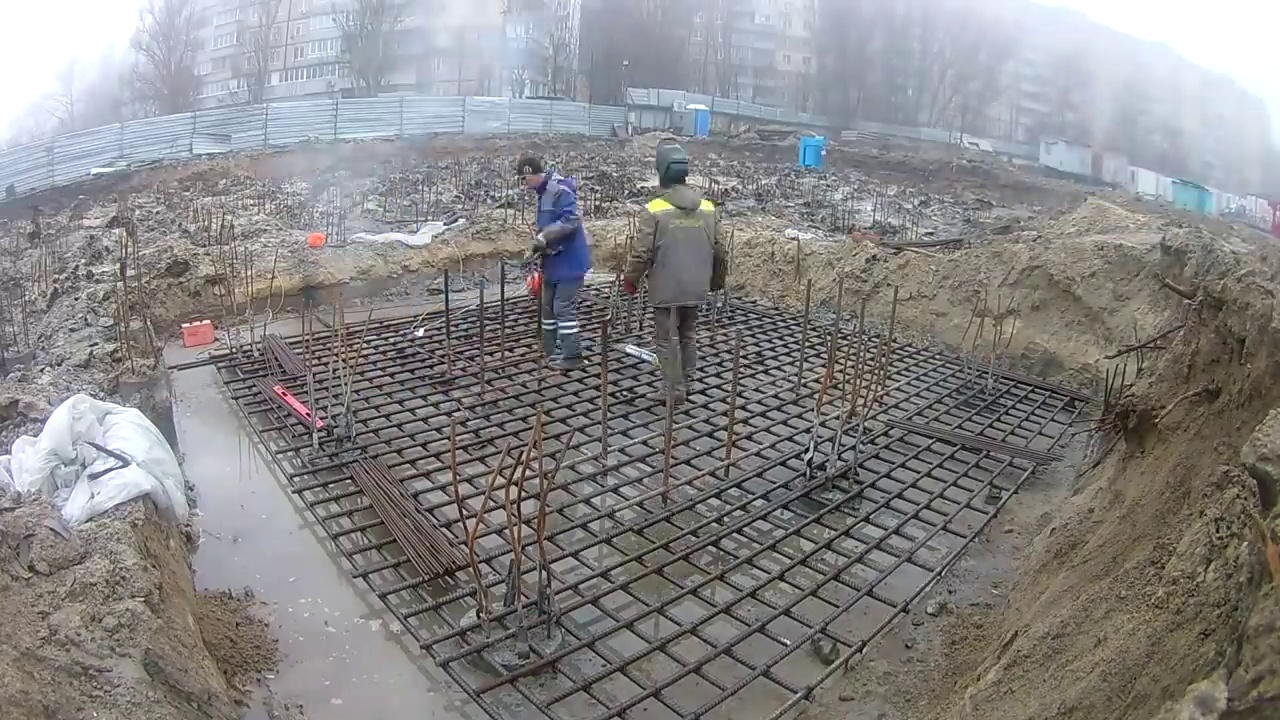helmet: (304, 230, 326, 250), (525, 271, 540, 297)
helmet-off: (653, 140, 693, 198), (519, 161, 548, 190)
person: (621, 140, 730, 414), (511, 156, 592, 376)
